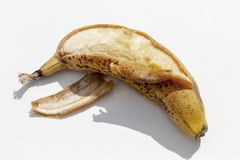looks_defective: (22, 21, 208, 160)
